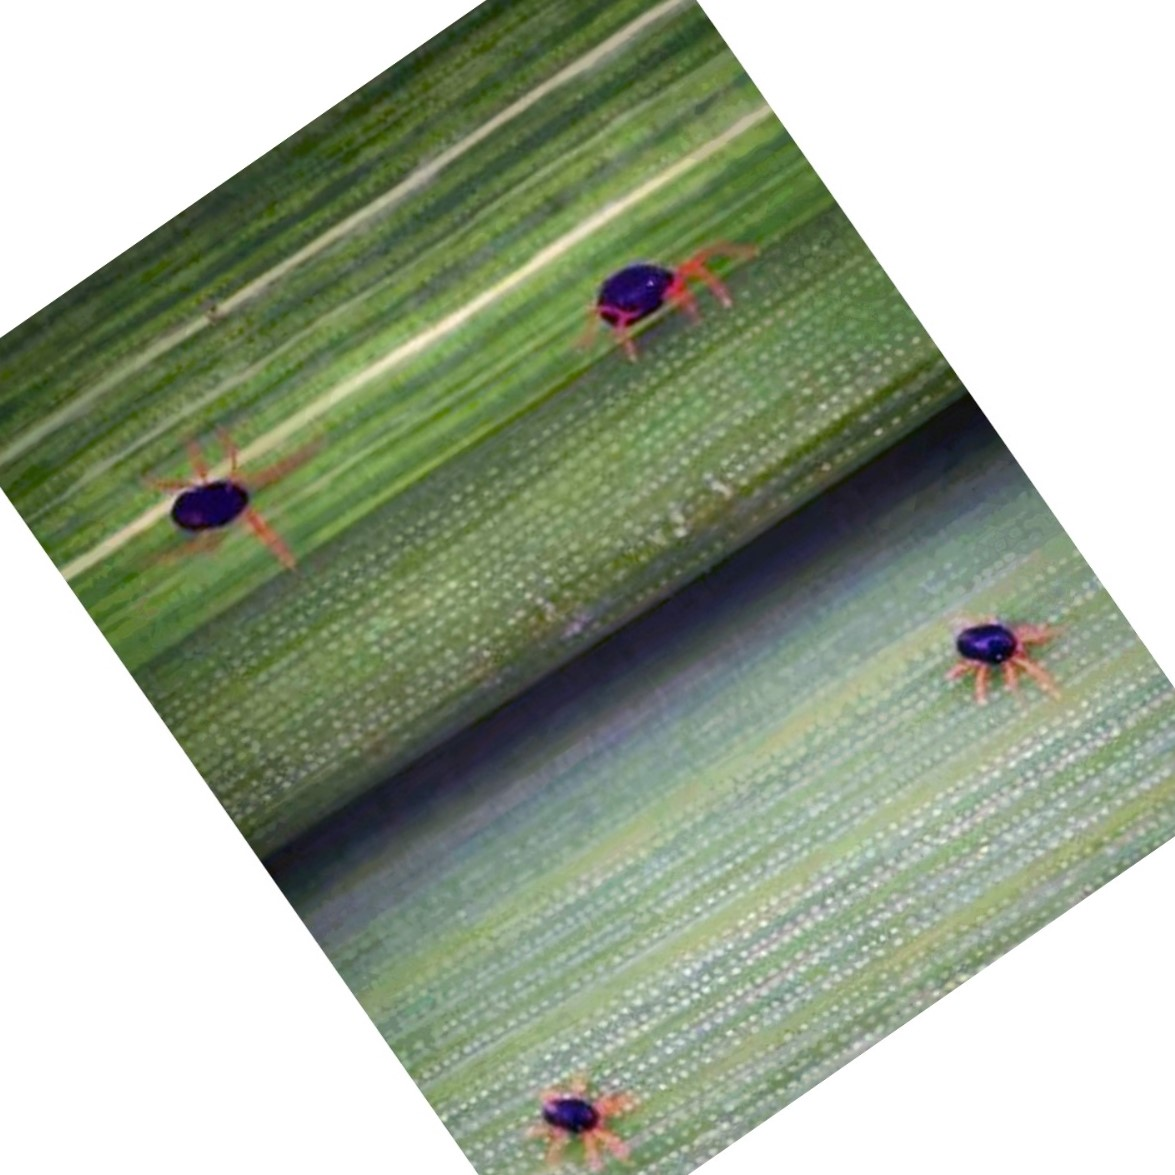Wheat Red Spider: (561, 225, 771, 370), (934, 598, 1084, 720)
